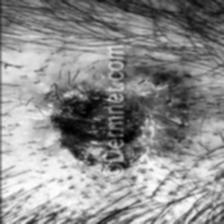Potentially Malignant Skin Tumors: (46, 68, 185, 176)
